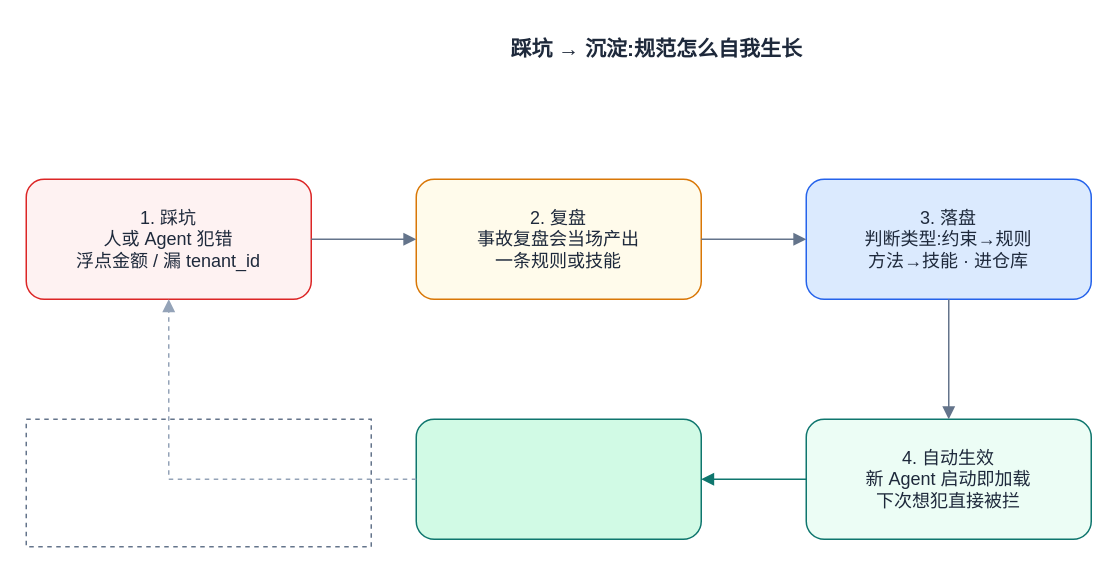
The diagram is 1118 pixels wide and 573 high, and some of its shapes have lost their labels. Here are the shapes that lost their labels. From the top down, the centre of each, then its label:
At point 198,482: "关键:落盘要及时 · 踩坑当场进仓库,不「等有空再补」 复盘不开完不算完,规则没落盘的复盘 = 没复盘".
At point 558,478: "5. 规则越攒越厚 项目越来越聪明 同类坑不再踩第二次".
